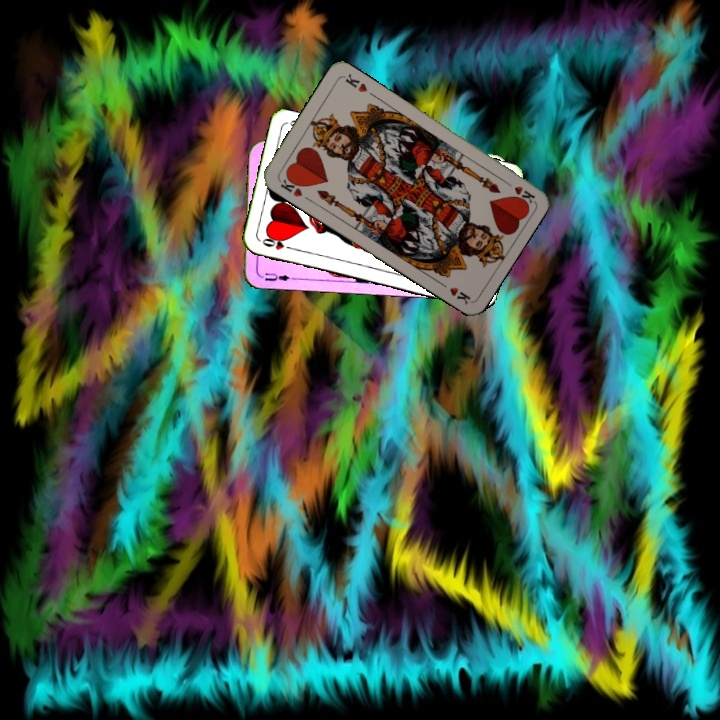EU: (256, 268, 297, 283)
HK: (499, 176, 537, 206), (275, 172, 306, 200)
HO: (258, 233, 297, 252)
